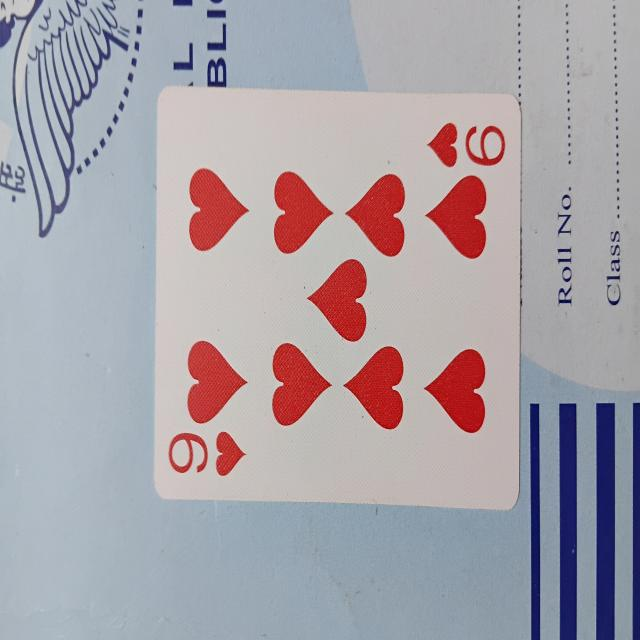9H: (156, 90, 518, 508)
